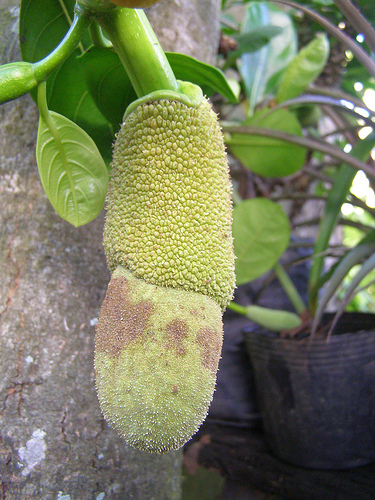jackfruit: (92, 85, 235, 450)
